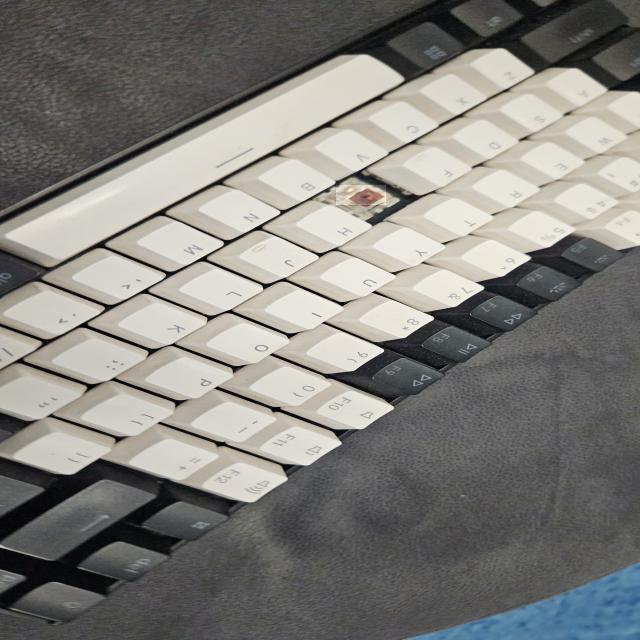C: (336, 185, 386, 205)
